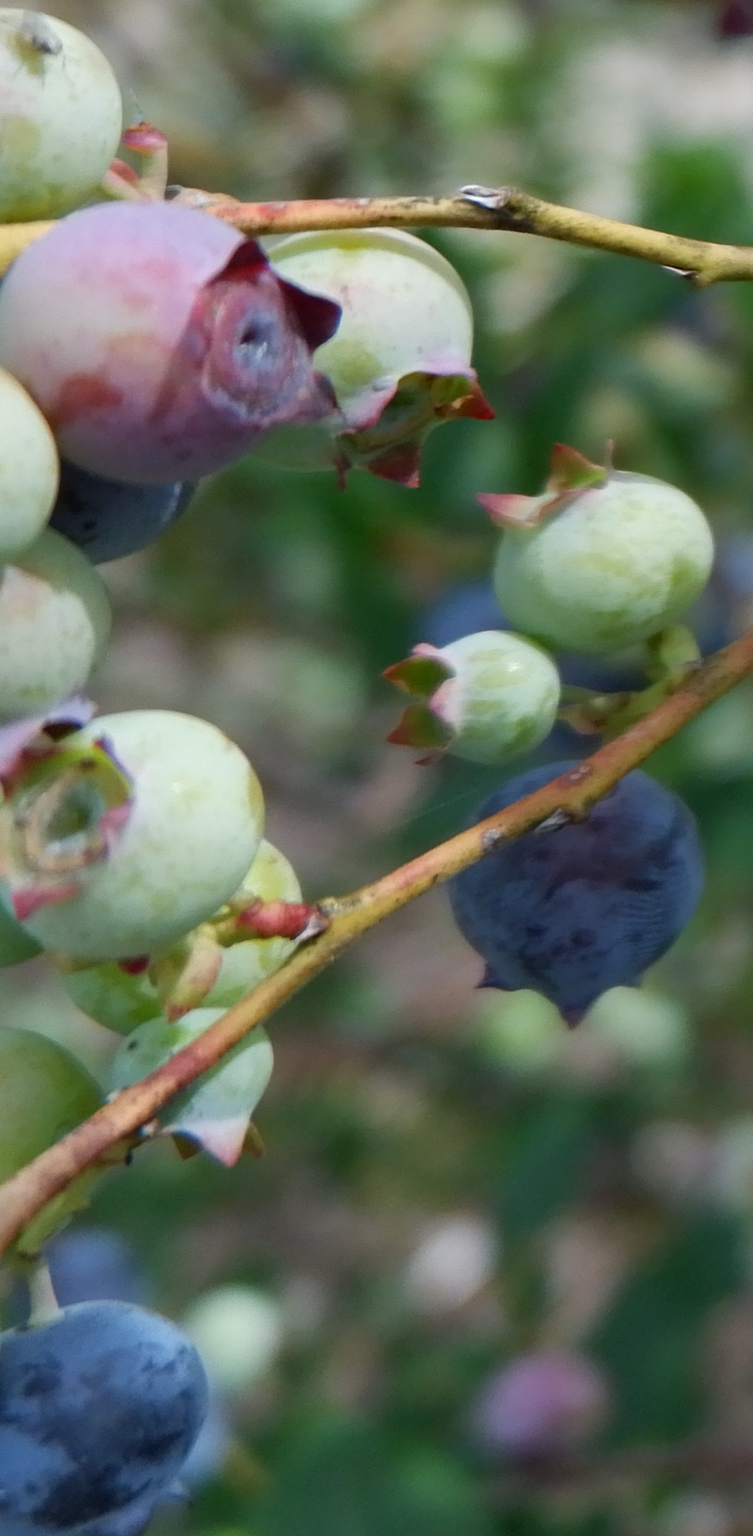Immature: (9, 196, 336, 472), (244, 227, 493, 488), (7, 720, 254, 959), (54, 837, 310, 1039), (490, 467, 709, 647), (106, 1003, 274, 1167), (2, 17, 121, 218), (394, 634, 555, 762), (1, 531, 108, 714), (1, 1023, 108, 1185), (0, 374, 57, 551)
Mature: (458, 760, 697, 1022), (6, 1306, 205, 1535), (52, 453, 188, 553)
